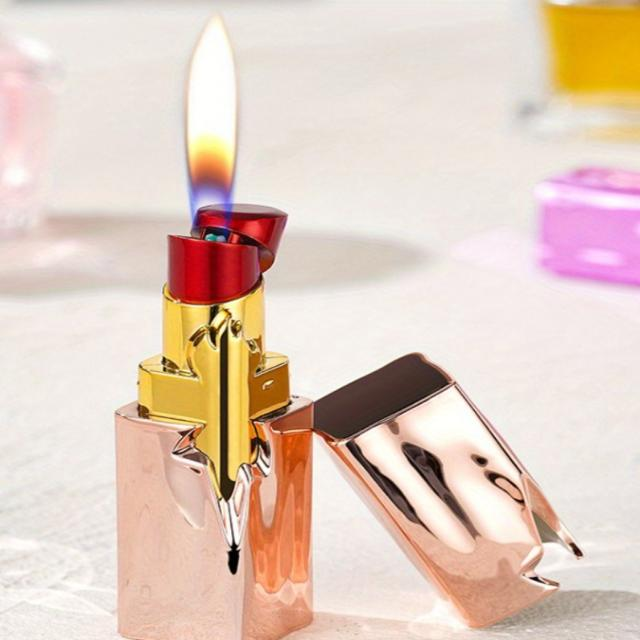fire: (184, 10, 237, 236)
